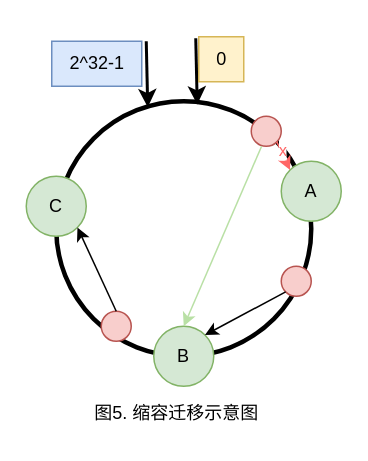
The diagram is 368 pixels wide and 461 high, and some of its shapes have lost their labels. Here are the shapes that lost their labels. From the top down, the centre of each, then its label:
point 265,130: k1
point 295,280: k2
point 115,325: k3
